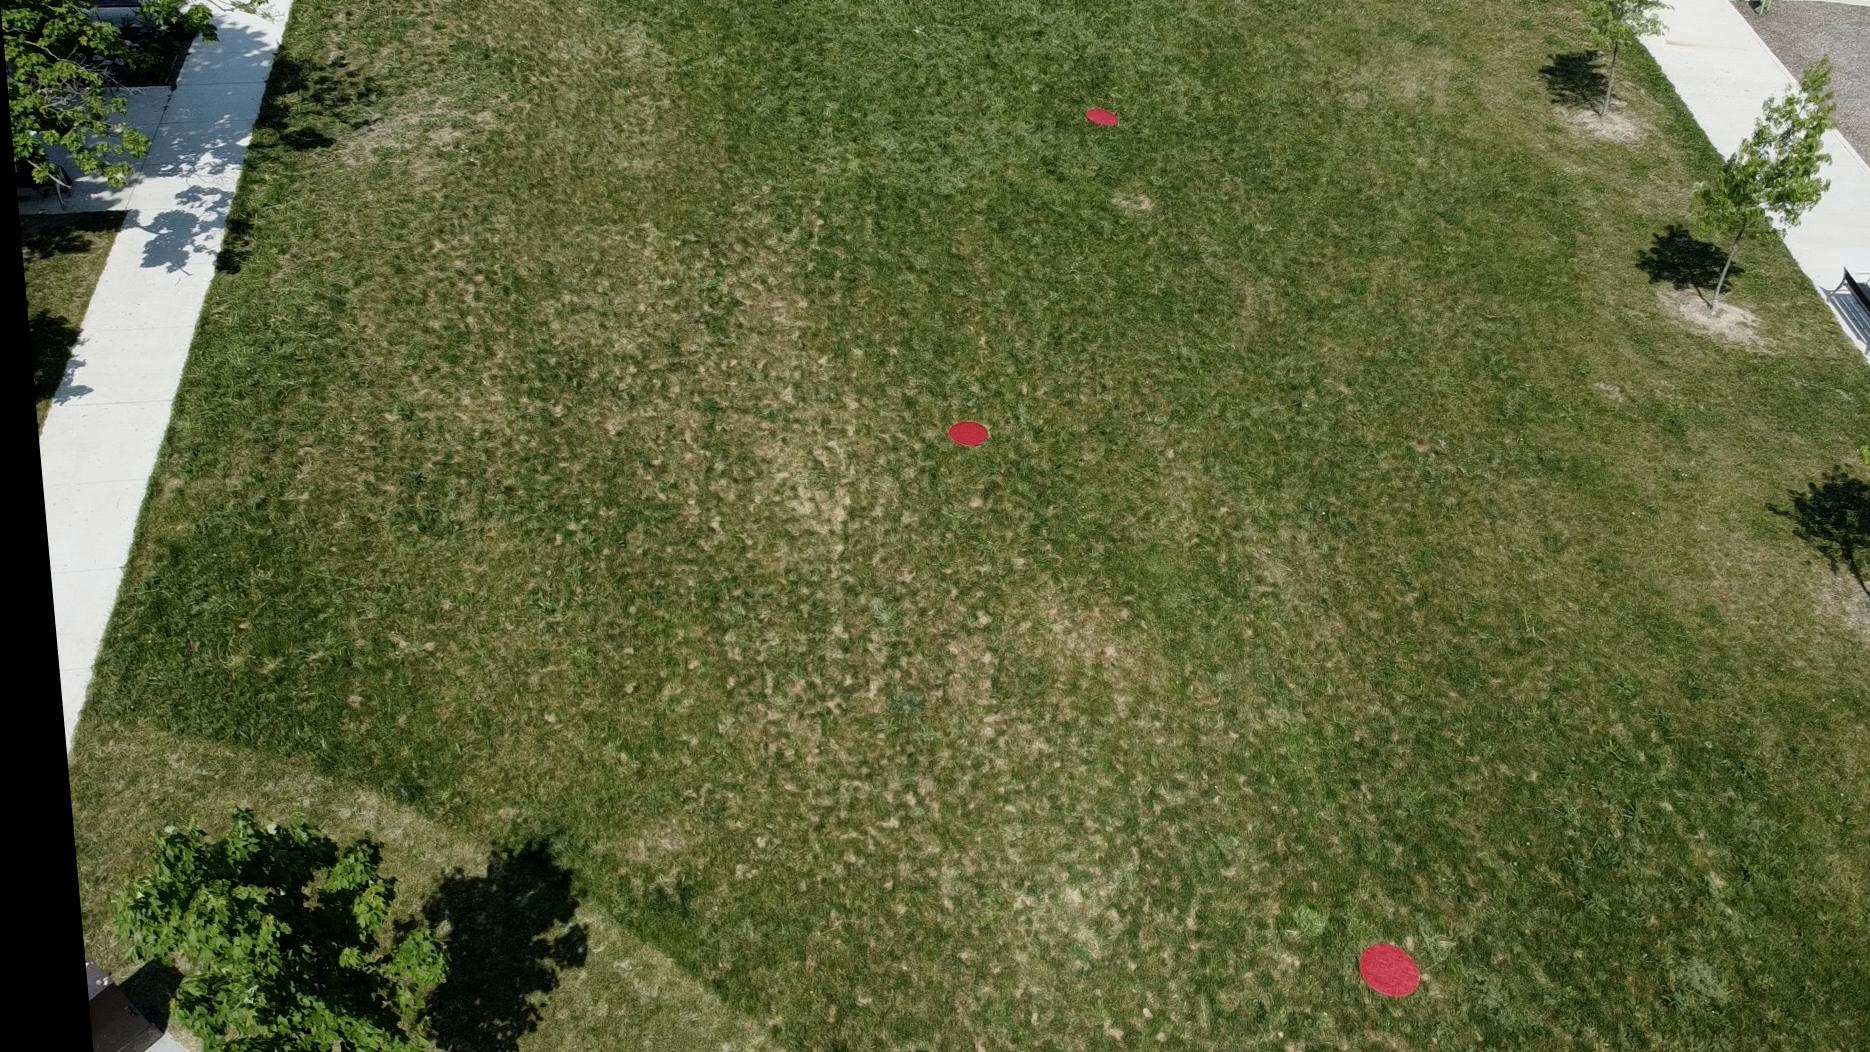Red: (1337, 940, 1405, 1001), (938, 416, 984, 448), (1076, 107, 1119, 127)
